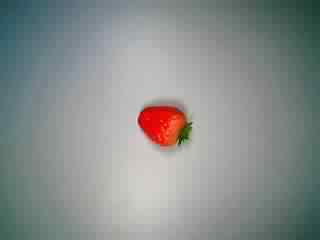strawberry: (135, 97, 197, 156)
